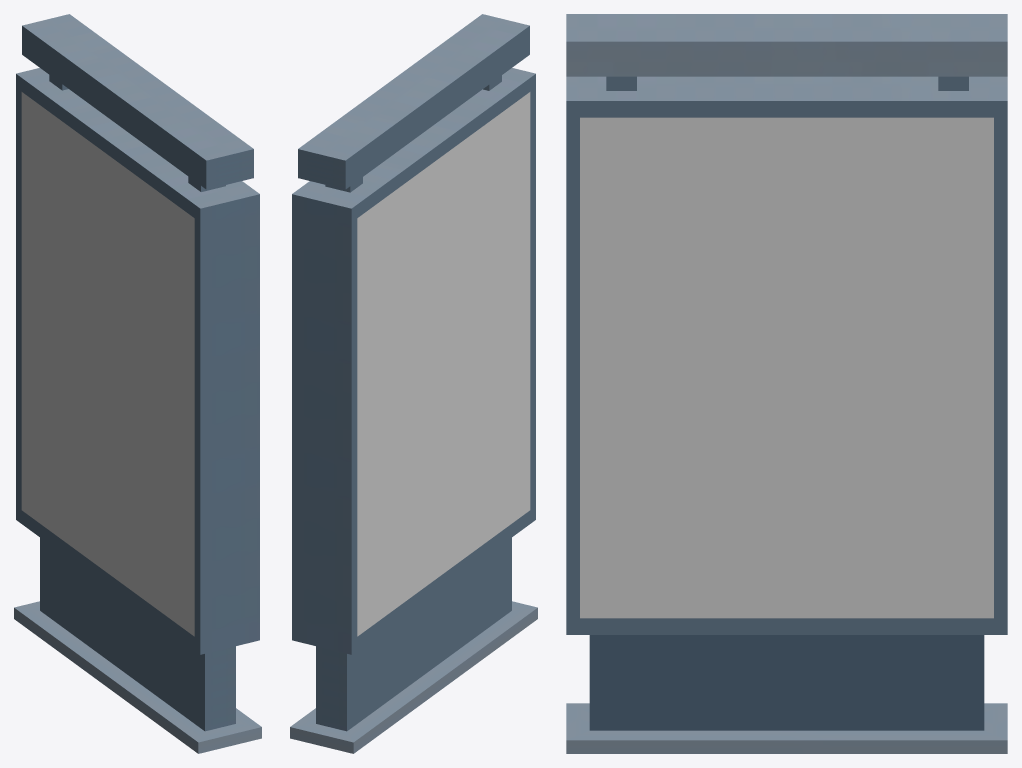
Rendered from Sign1.glb.
3 renders of one model, left to right at view 1: azimuth 30°, elevation 25°; view 2: azimuth 150°, elevation 25°; view 3: azimuth 270°, elevation 25°, orthographic. The views are drawn at different scales.
Parts seen in each view (by area): view 1: SignFrame, Sign2; view 2: SignFrame, Sign2; view 3: Sign, SignFrame.
Part boxes in pixels (x1,y1,x2,y2): SignFrame: (14, 14, 261, 753); Sign2: (21, 92, 194, 636); SignFrame: (290, 14, 537, 753); Sign2: (357, 92, 530, 636); Sign: (580, 117, 993, 618); SignFrame: (566, 14, 1007, 753).
Bounding box in the file's own units: 0.4376 × 3.89 × 2.2.
Materials: 3 (1 with a texture image).
